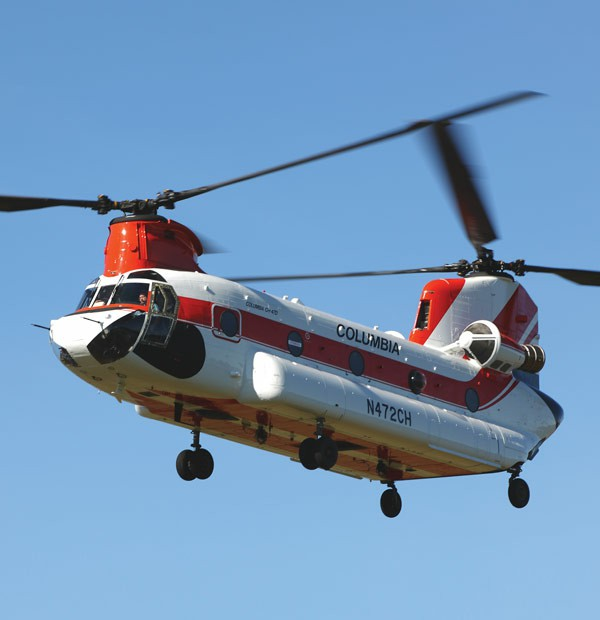chinook: (9, 120, 587, 516)
